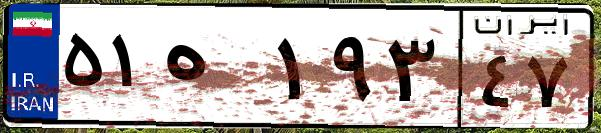1: (270, 28, 330, 110), (110, 28, 158, 98)
3: (385, 28, 445, 110)
4: (475, 38, 525, 113)
5: (57, 26, 110, 100)
7: (525, 38, 570, 115)
9: (330, 28, 385, 110)
ه: (158, 20, 270, 120)
